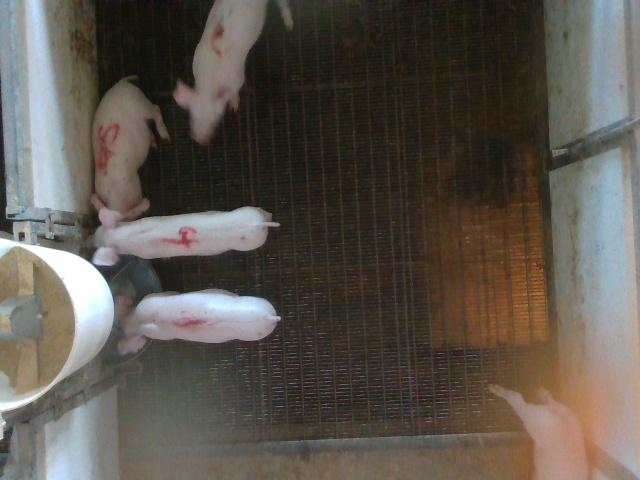pig-1: (114, 289, 281, 356)
pig-3: (174, 0, 267, 144)
pig-4: (88, 206, 279, 264)
pig-5: (92, 75, 170, 216)
